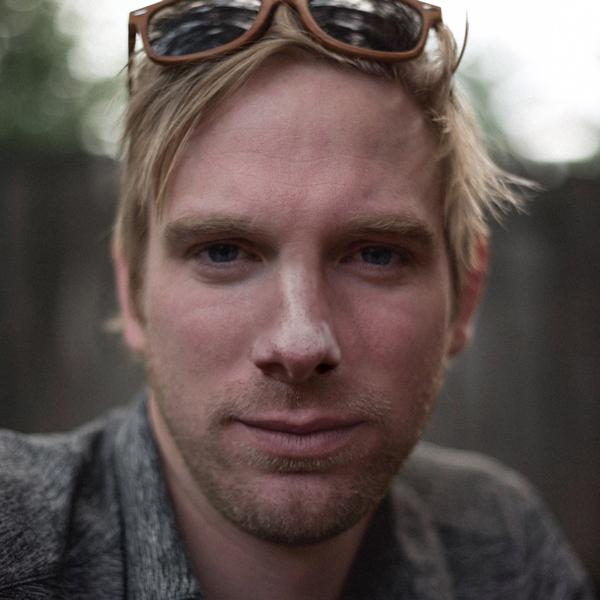Eyes: (176, 224, 270, 288), (329, 231, 417, 283)
